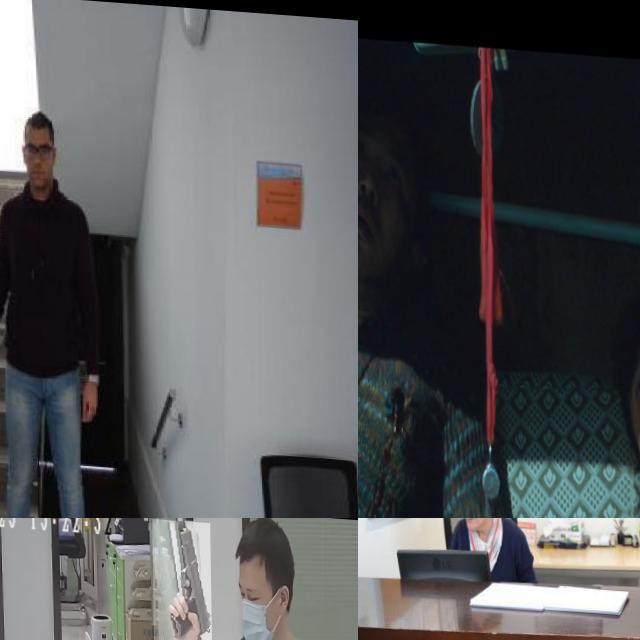-: (0, 370, 15, 420)
gun-knife-thesis - v11 Yolov5 augmented: (152, 518, 211, 640), (358, 312, 406, 435)
